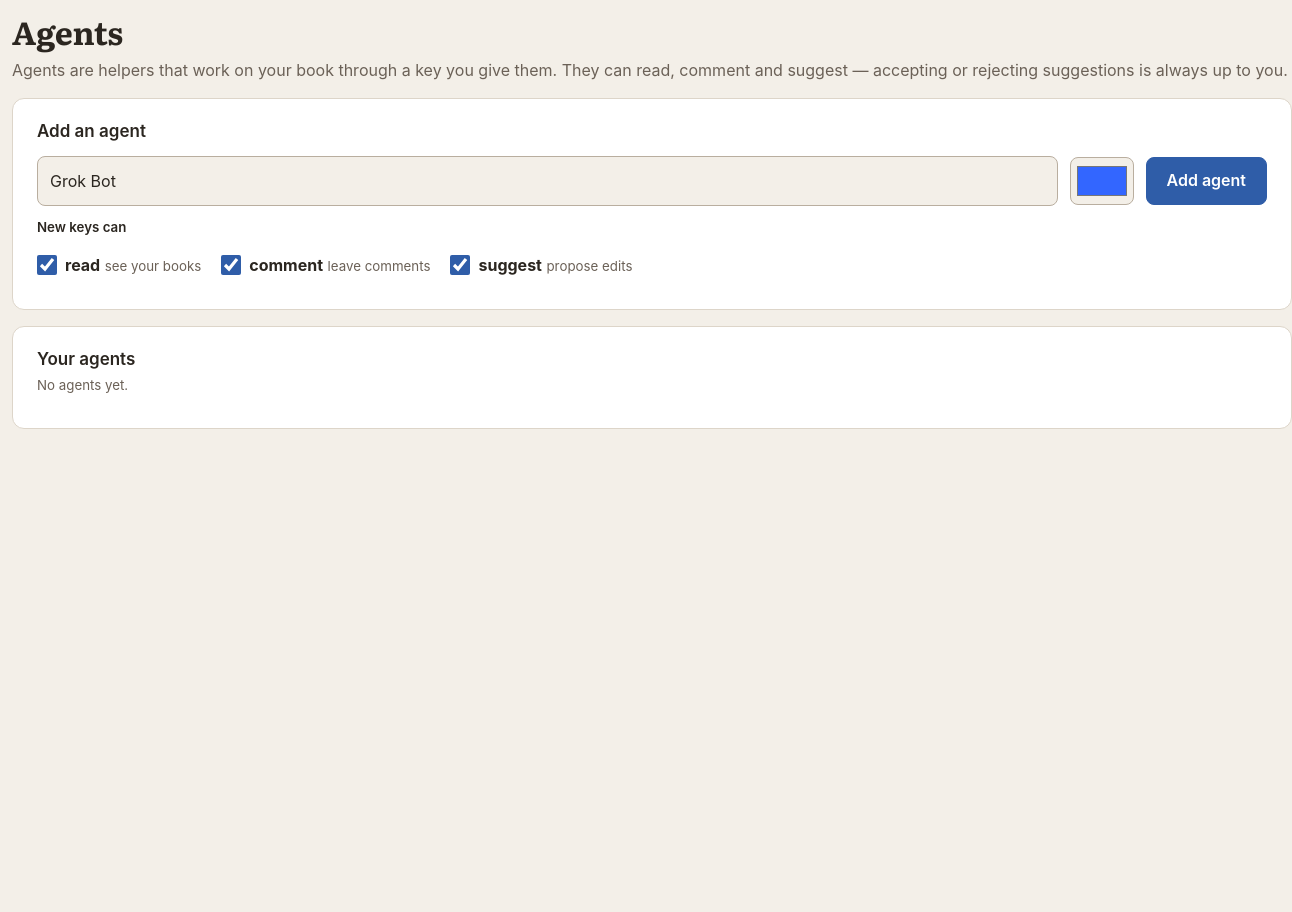
Scenario: AgentsSettings › user-facing copy says "key", never "token" (#99)
Step 1. Replace the text in the field named "Agent name" with "Sample Agent" → [547, 181], box [37,156,1058,206]
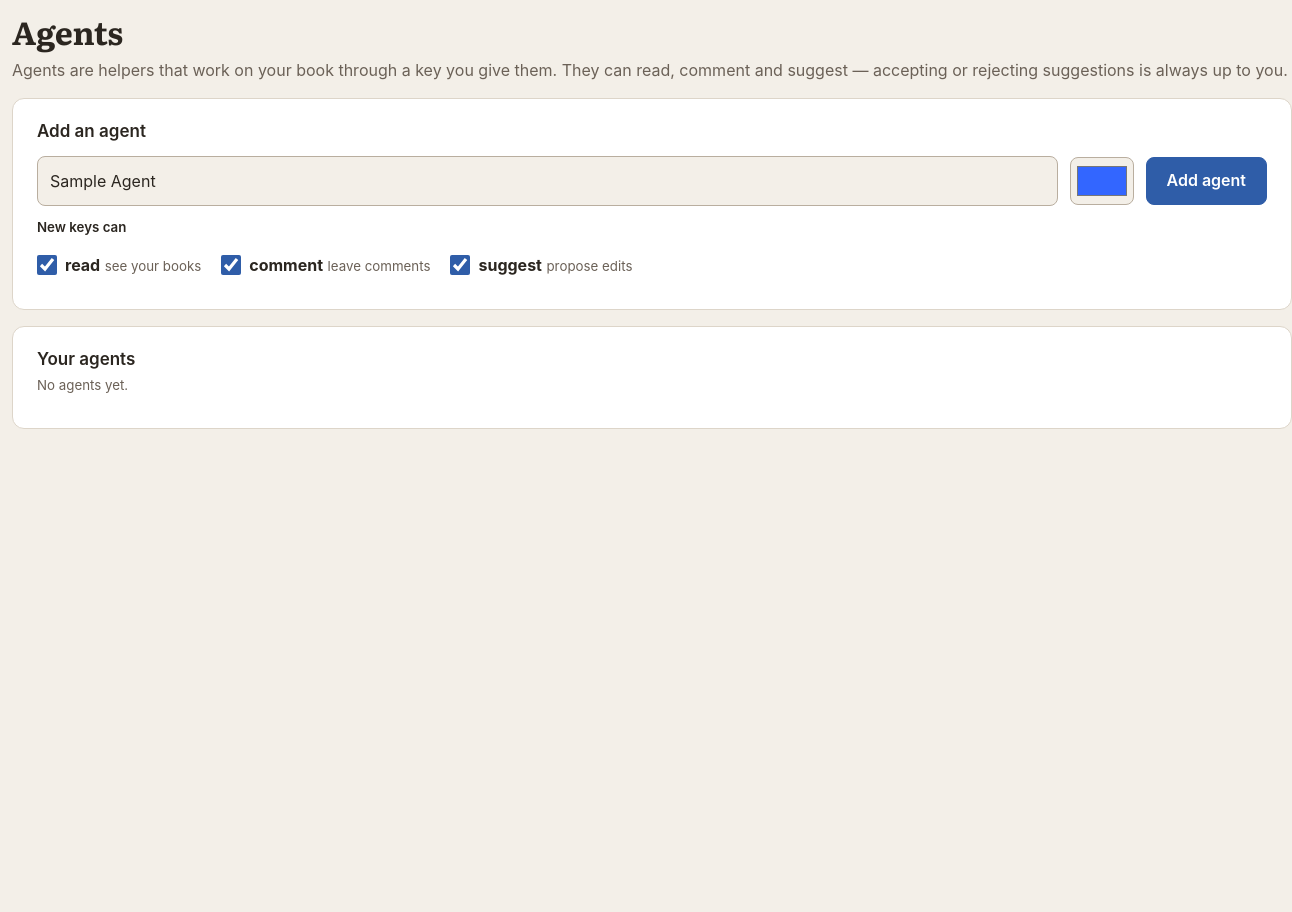
Step 2. Submit the form with test id "create-agent", box [37,156,1267,206]
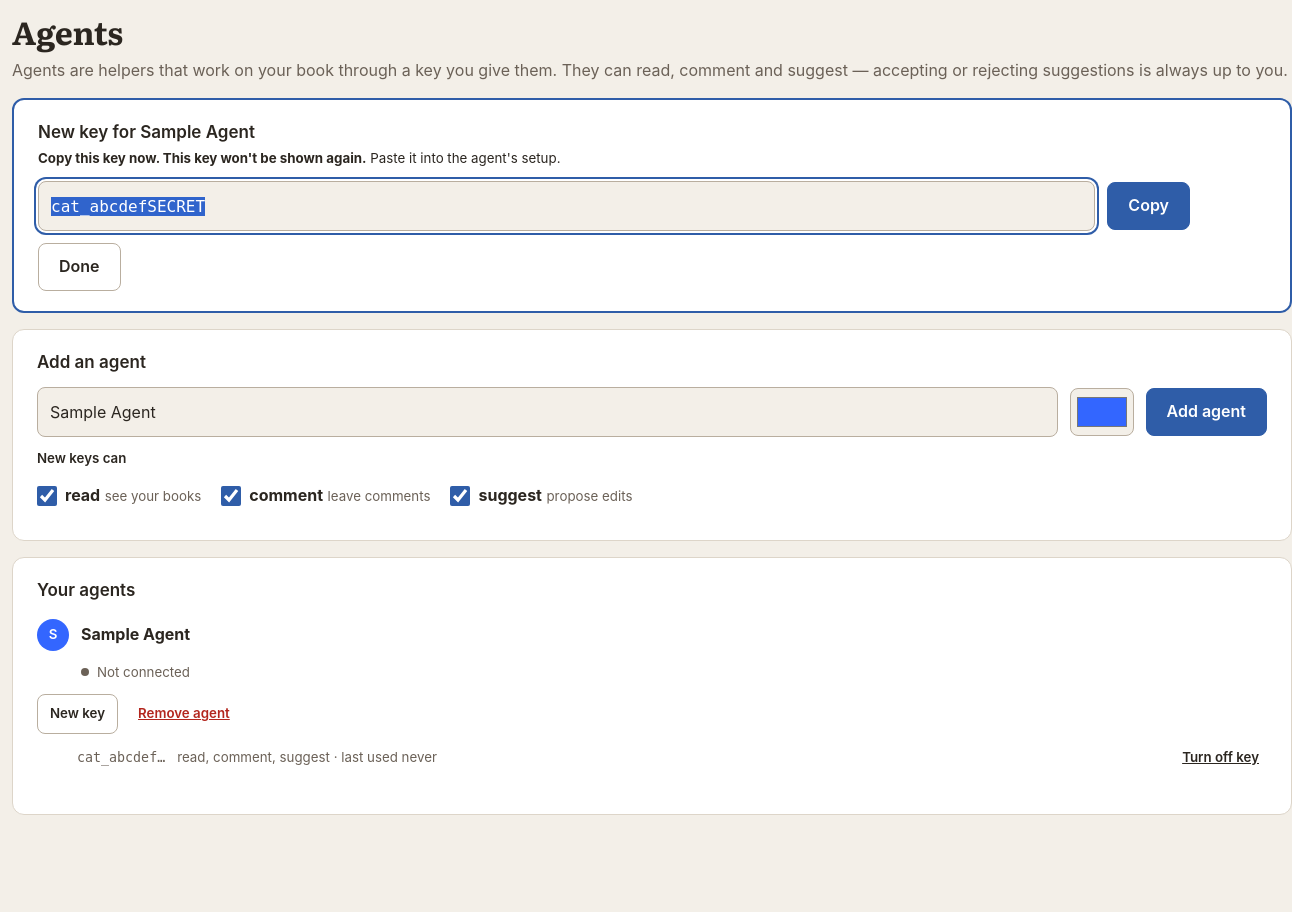
Check: the text "New keys can" is shown, box [37,449,126,468]
Check: the element with test id "token-once" shows "New key for Sample Agent", box [12,98,1291,313]
Check: the text "Copy this key now. This key won't be shown again." is shown, box [38,150,366,166]
Step 3. Click the button with test id "token-done" → [79, 267], box [38,243,120,291]
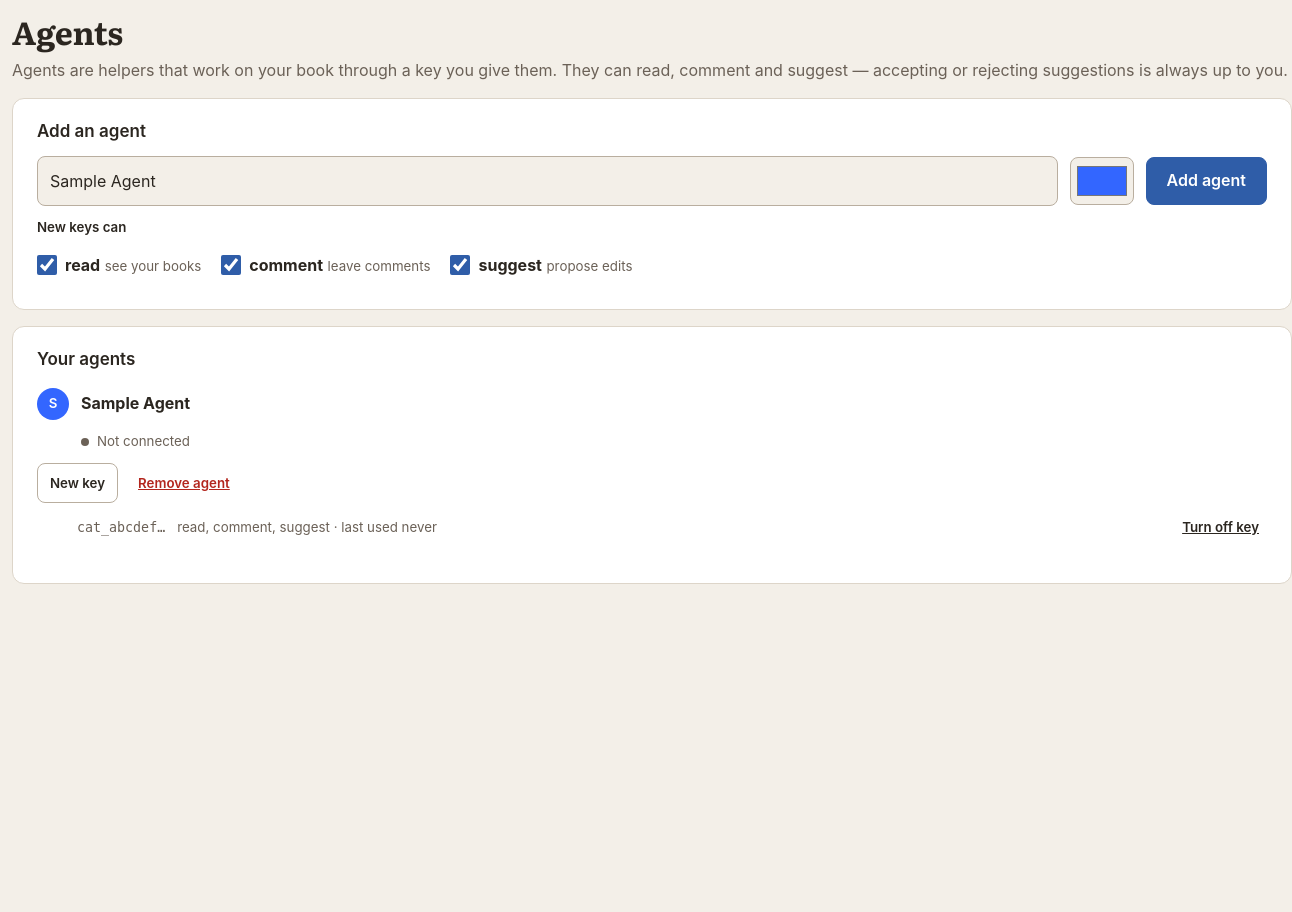
Step 4. Click the button with test id "revoke-token" → [1221, 527], box [1174,507,1267,547]
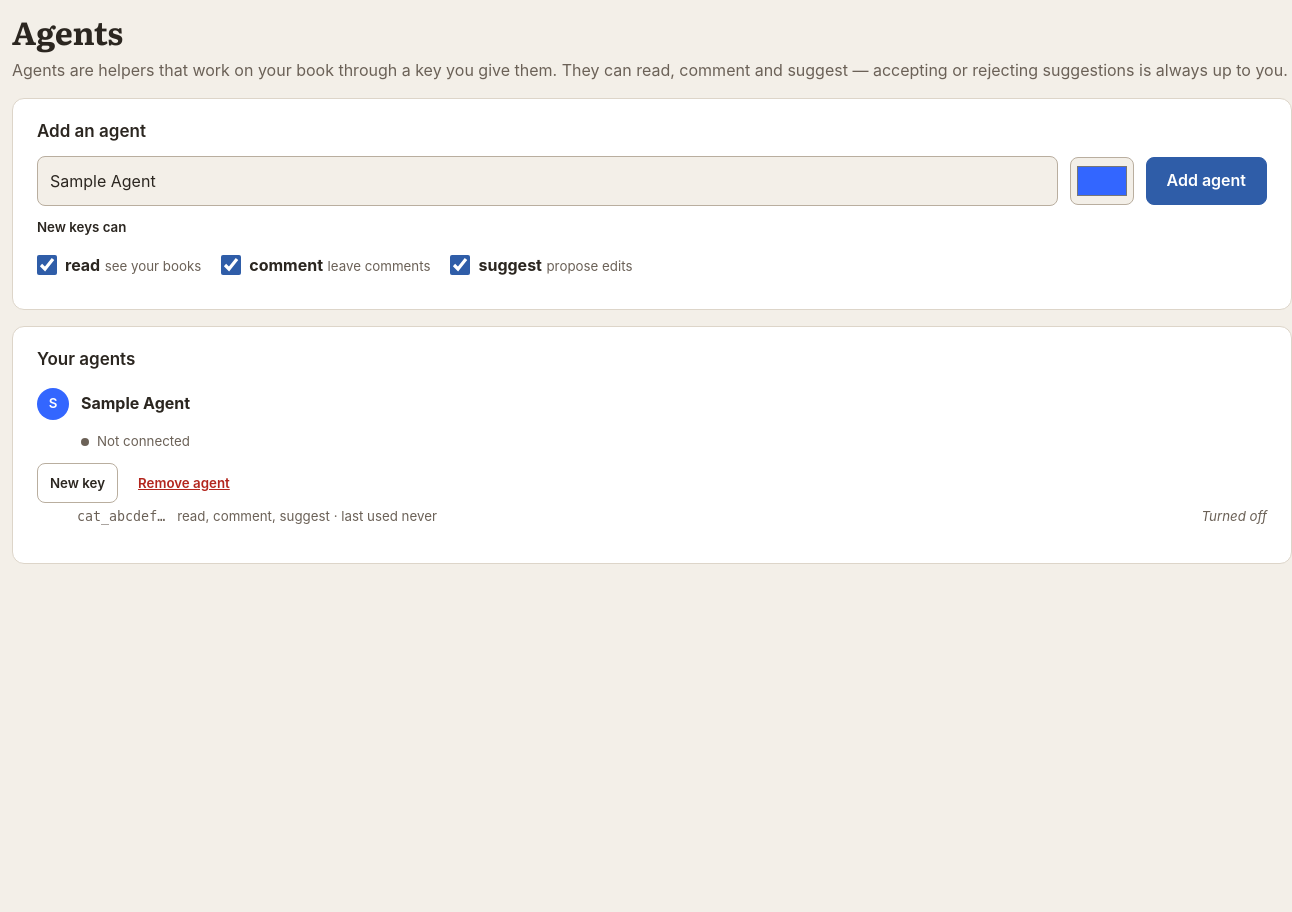
Step 5. Click the button with test id "revoke-agent" → [184, 483], box [130,463,238,503]
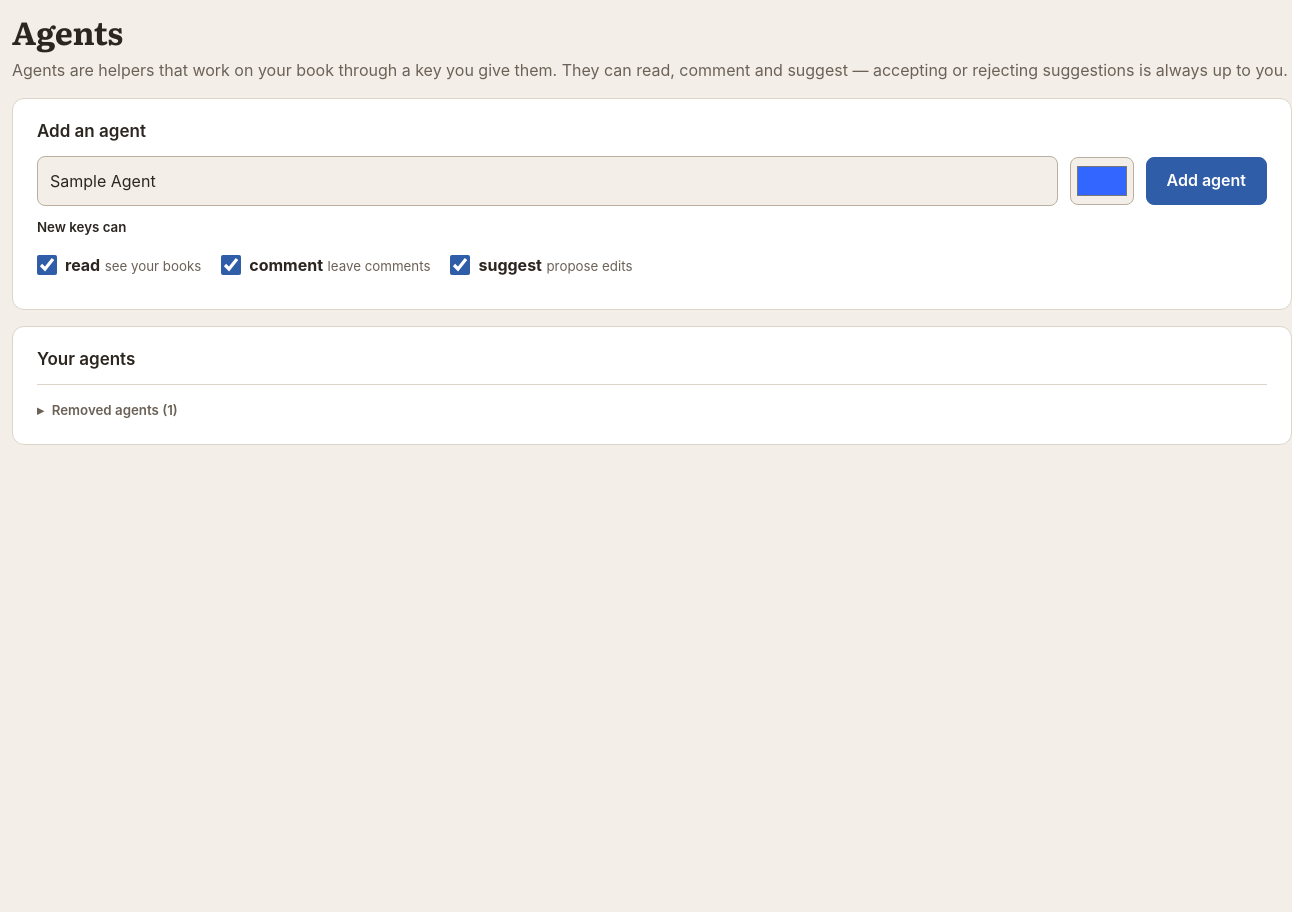
Check: no list items with test id "agent" are shown
Check: the button with test id "removed-toggle" shows "Removed agents (1)"
Step 6. Click the button with test id "removed-toggle" → [115, 410], box [37,397,1267,424]
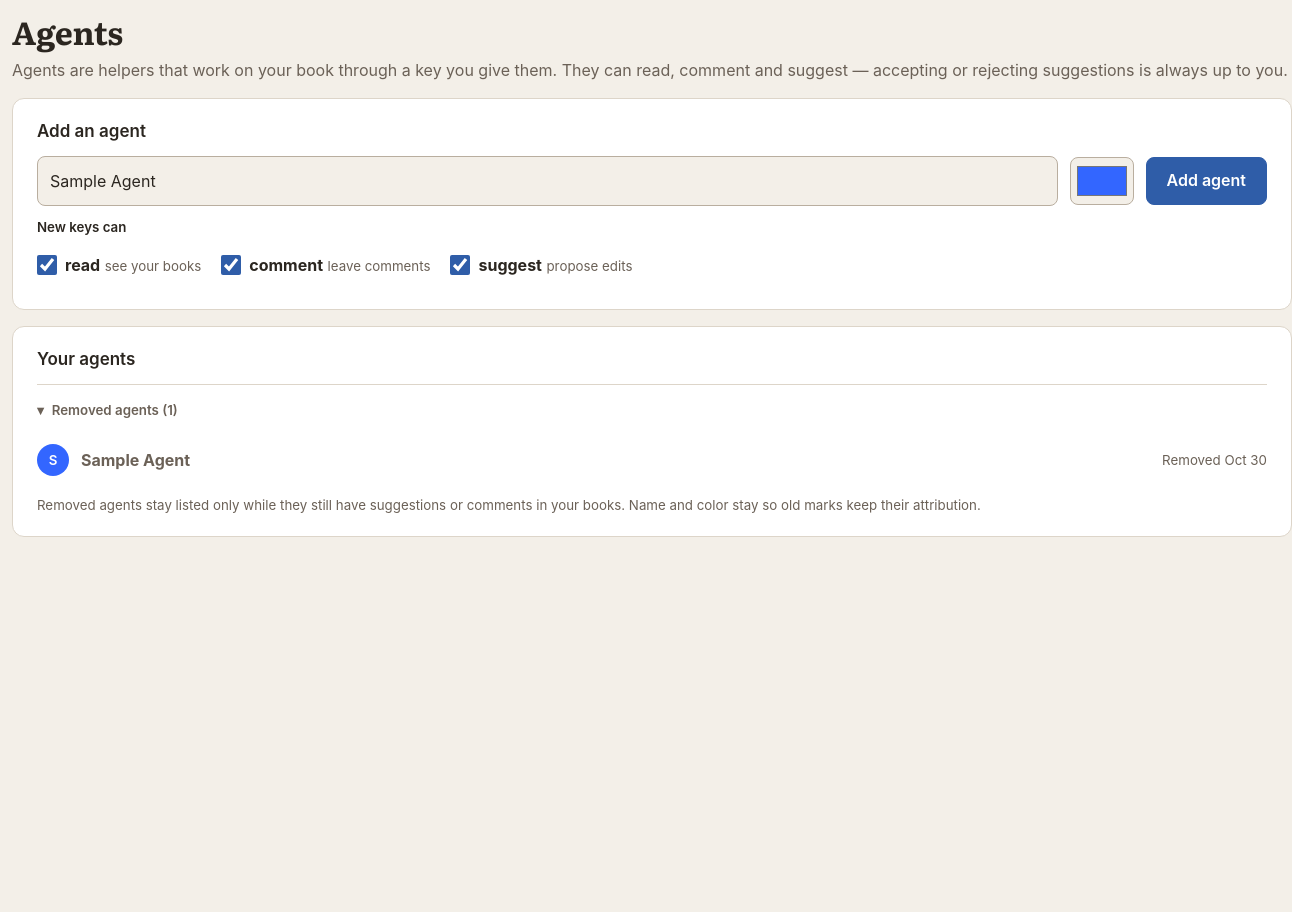
Check: the element with test id "removed-agent" does not show "New key"
Check: the list item with test id "removed-agent" shows "Removed Oct 30", box [1162,452,1267,468]
